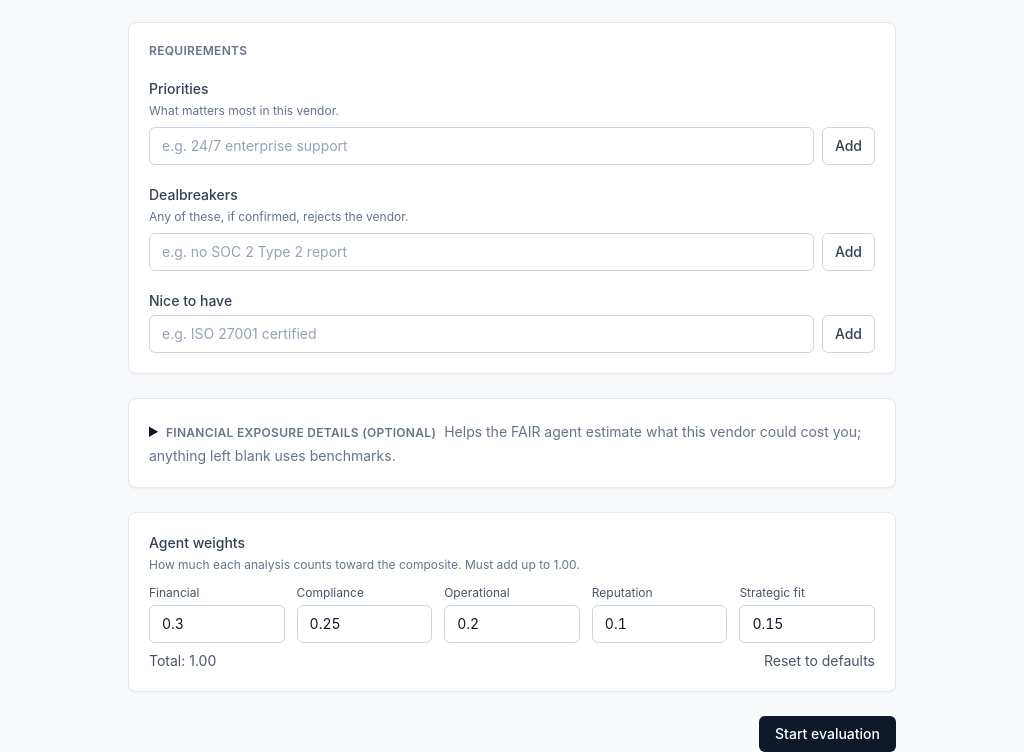
Test: requires vendor, company, industry and contract value
(page scrolled)
Click the button "Start evaluation" at (828, 734), box [759,716,896,751]
(page scrolled)
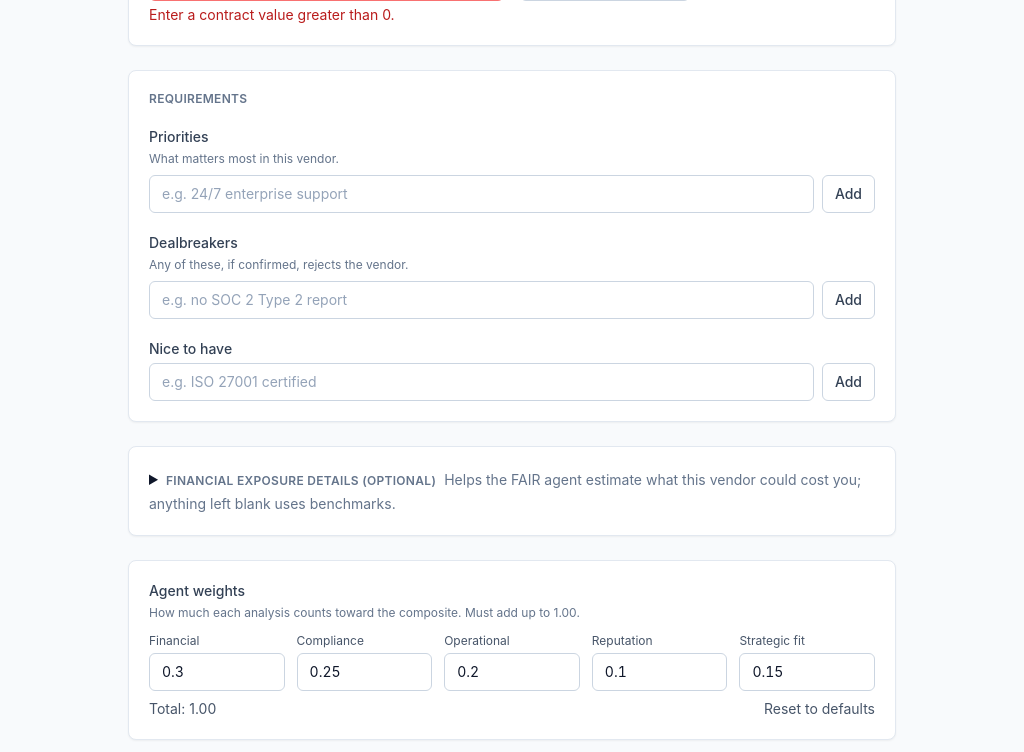
Check: the text "Enter a contract value greater than 0." is shown, box [149,6,395,23]
